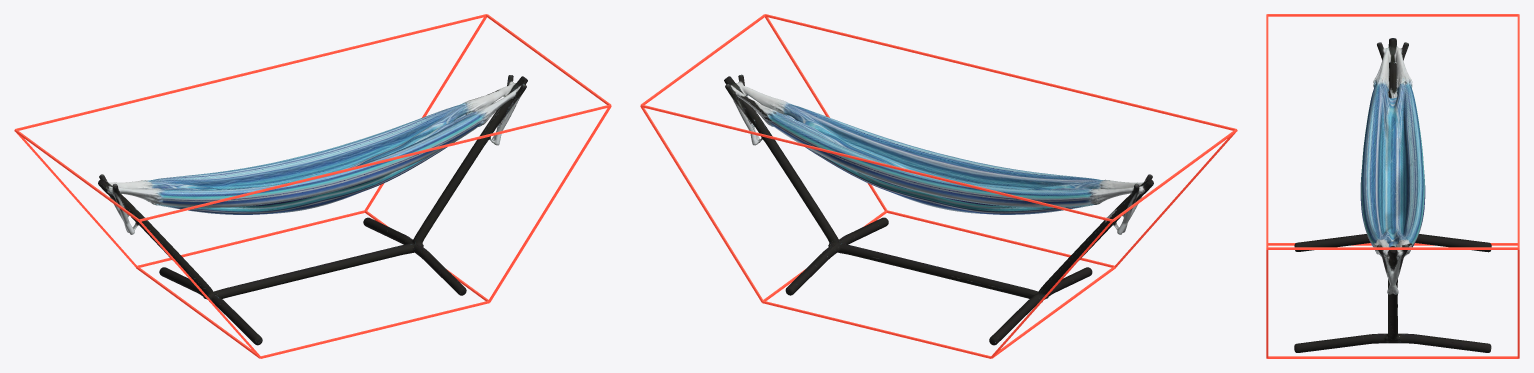
File: sway-blue-ar.glb
3 renders of one model, left to right at view 1: azimuth 30°, elevation 25°; view 2: azimuth 150°, elevation 25°; view 3: azimuth 270°, elevation 25°, orthographic.
Visible parts, largest first — view 1: Mesh_0, footprint; view 2: Mesh_0, footprint; view 3: Mesh_0, footprint.
Part boxes in pixels (bbox=[...]): Mesh_0: bbox=[98, 75, 527, 345]; footprint: bbox=[14, 14, 611, 358]; Mesh_0: bbox=[724, 74, 1153, 345]; footprint: bbox=[640, 14, 1237, 358]; Mesh_0: bbox=[1294, 38, 1491, 352]; footprint: bbox=[1266, 14, 1519, 358].
Size of the model in its own units: 3.31 by 1.13 by 1.51.
Materials: 2 (1 with a texture image).
